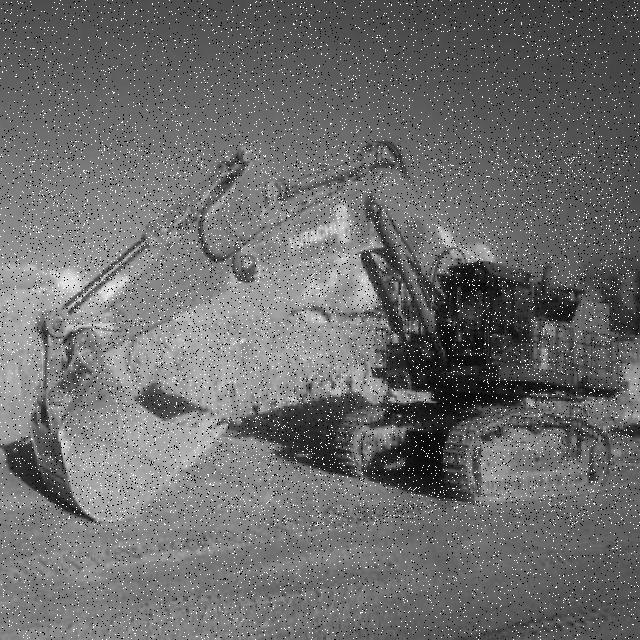Construction Equipment: (29, 141, 632, 526)
